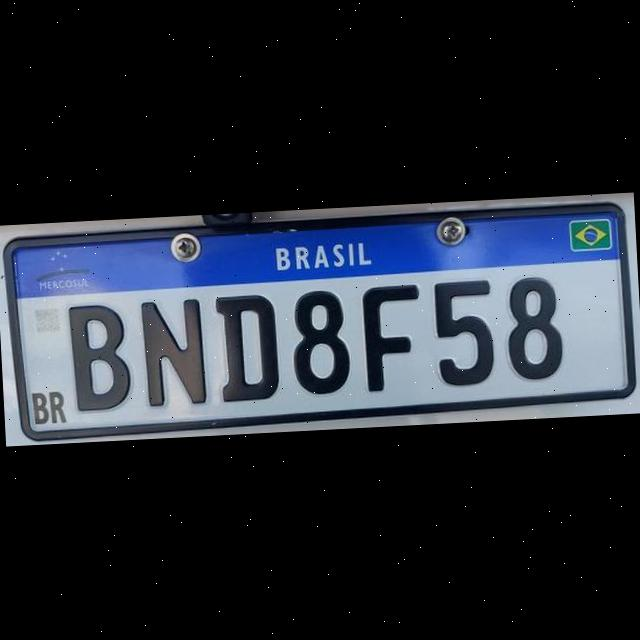Caractere: (136, 294, 207, 411), (214, 290, 284, 402), (67, 298, 134, 413), (430, 276, 496, 388), (361, 280, 425, 392), (504, 273, 565, 383), (290, 287, 350, 397)
Placa: (2, 194, 640, 444)
